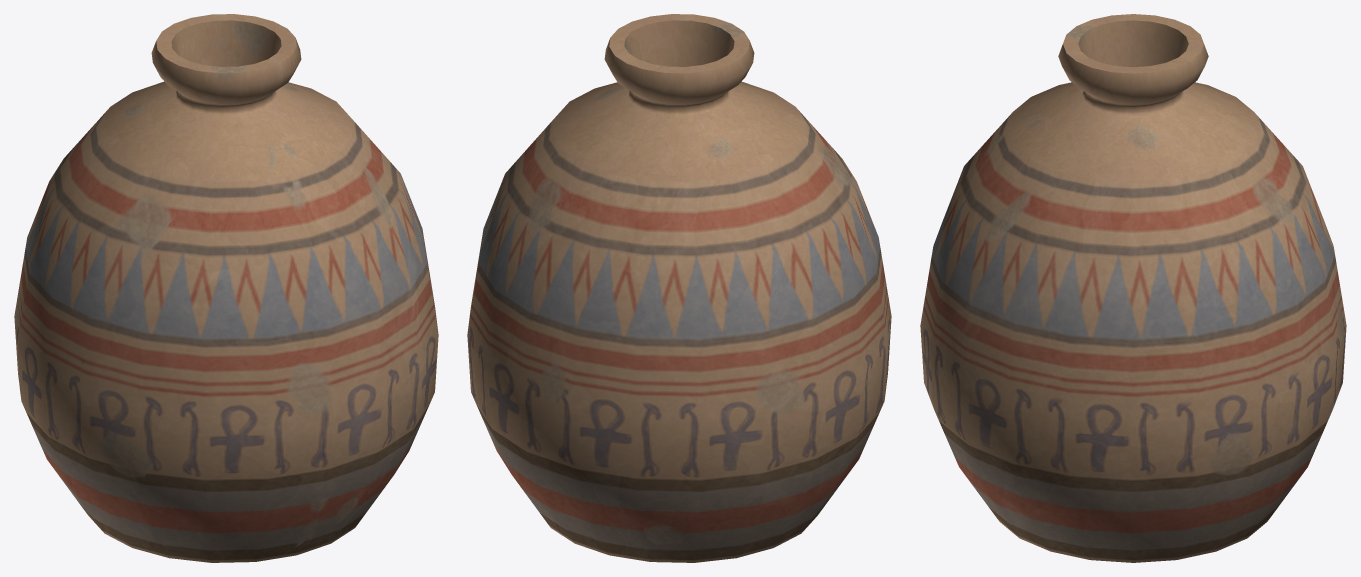
The model's file is POTTERY.fbx.
3 renders of one model, left to right at view 1: azimuth 30°, elevation 25°; view 2: azimuth 150°, elevation 25°; view 3: azimuth 270°, elevation 25°, orthographic.
Parts seen in each view (by area): view 1: pCylinder4; view 2: pCylinder4; view 3: pCylinder4.
Boxes of the visible parts, box(x1,y1,x2,y2) form: pCylinder4: box(14, 14, 438, 562); pCylinder4: box(467, 14, 891, 562); pCylinder4: box(920, 14, 1346, 562).
Size of the model in its own units: 39.1 by 46.53 by 39.1.
Materials: 1 (1 with a texture image).
